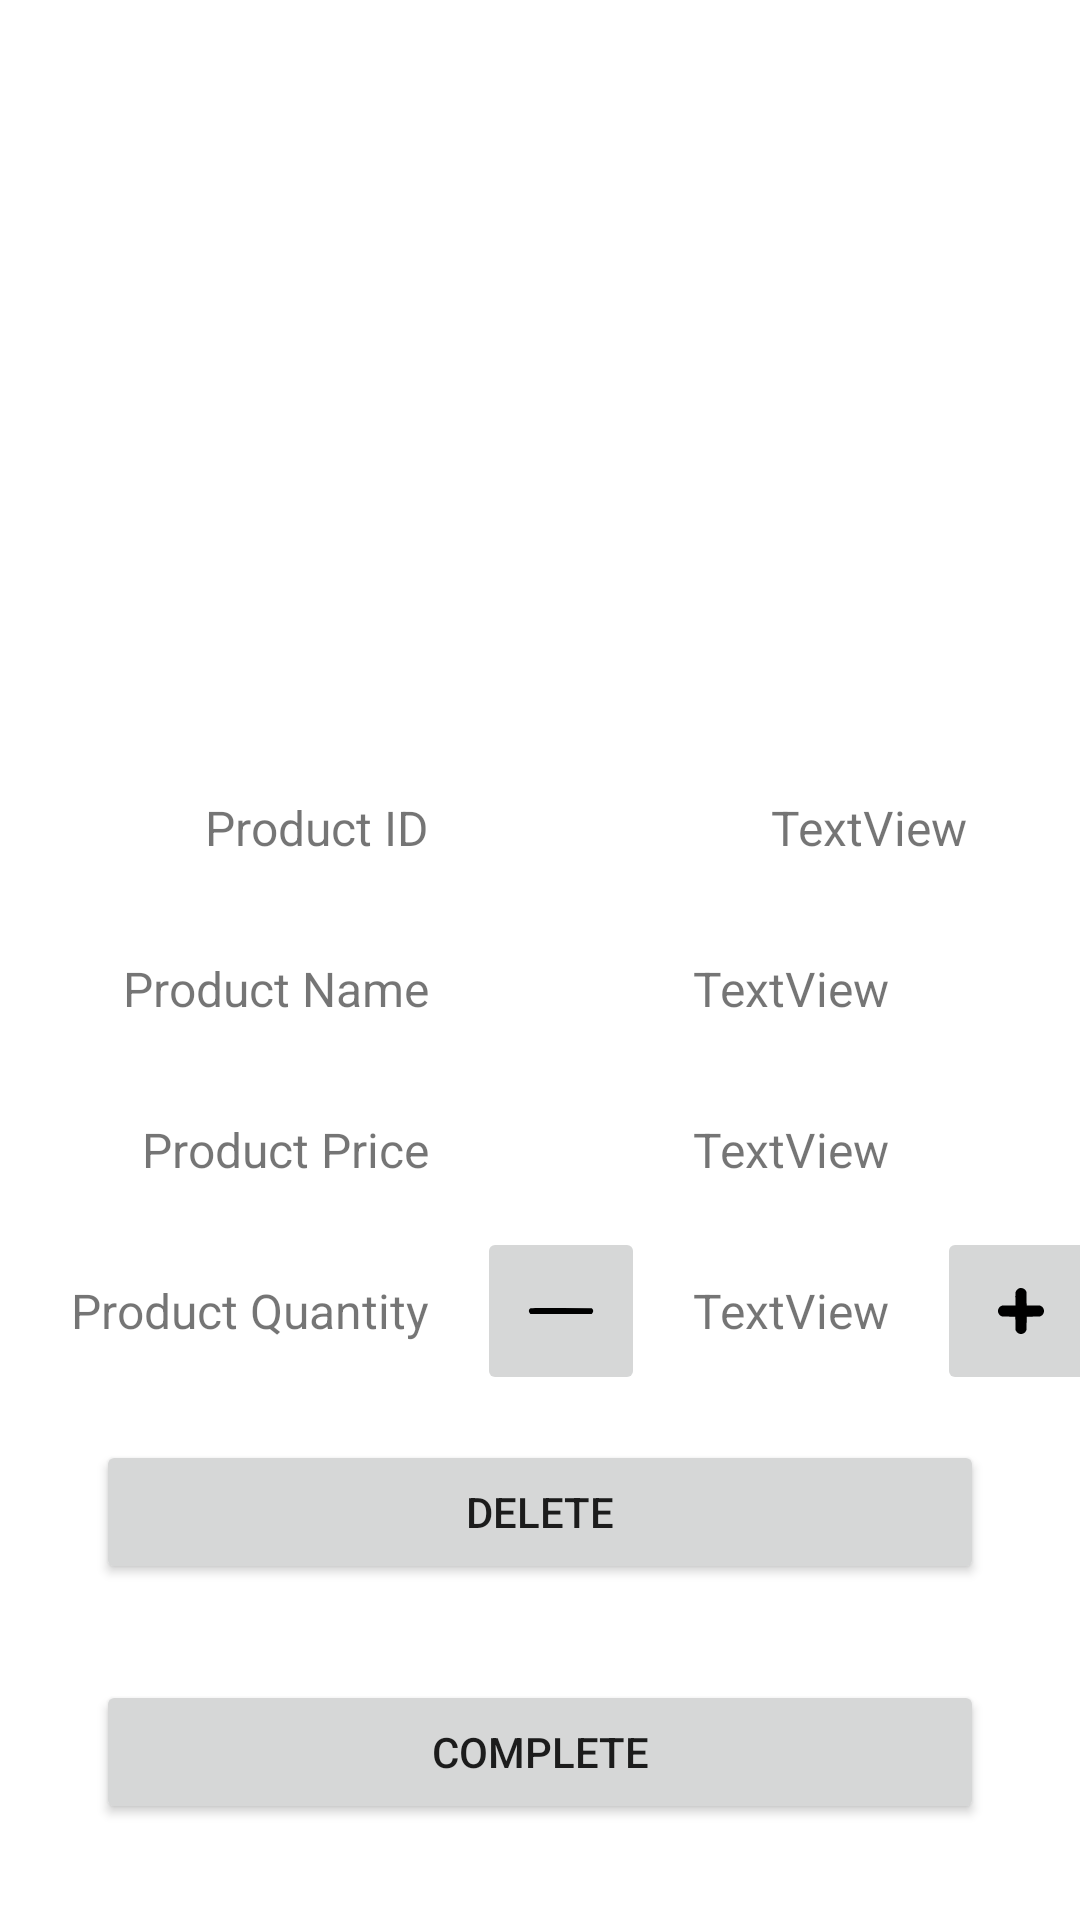

Named icons in this screenshot (1080w x 1920h) and their centers, (x,y):
Minus: (561,1311)
